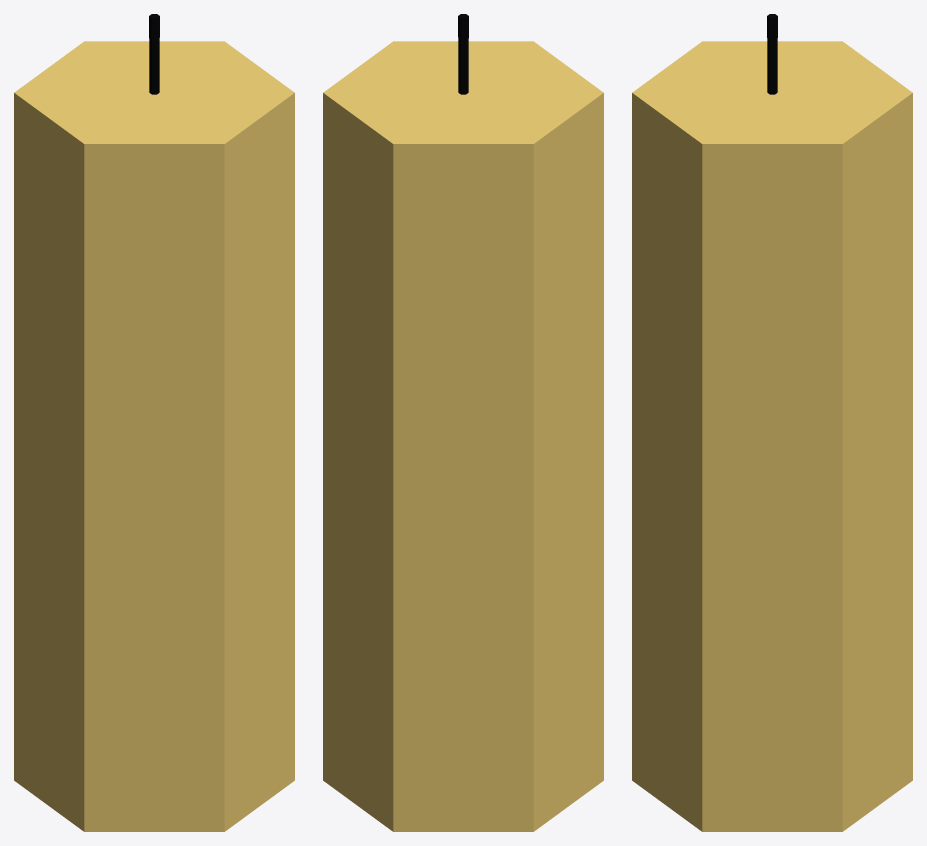
Rendered from candle.obj.
The picture shows the model from 3 angles, left to right: view 1: azimuth 30°, elevation 25°; view 2: azimuth 150°, elevation 25°; view 3: azimuth 270°, elevation 25°; orthographic projection.
Parts seen in each view (by area): view 1: candle.003; view 2: candle.003; view 3: candle.003.
Part boxes in pixels (box(x1,y1,x2,y2)): candle.003: box(14, 14, 294, 831); candle.003: box(323, 14, 603, 831); candle.003: box(632, 14, 912, 831).
Size of the model in its own units: 0.1099 by 0.3814 by 0.1269.
